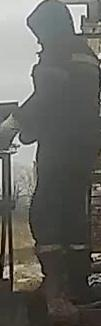vest: (32, 37, 98, 197)
